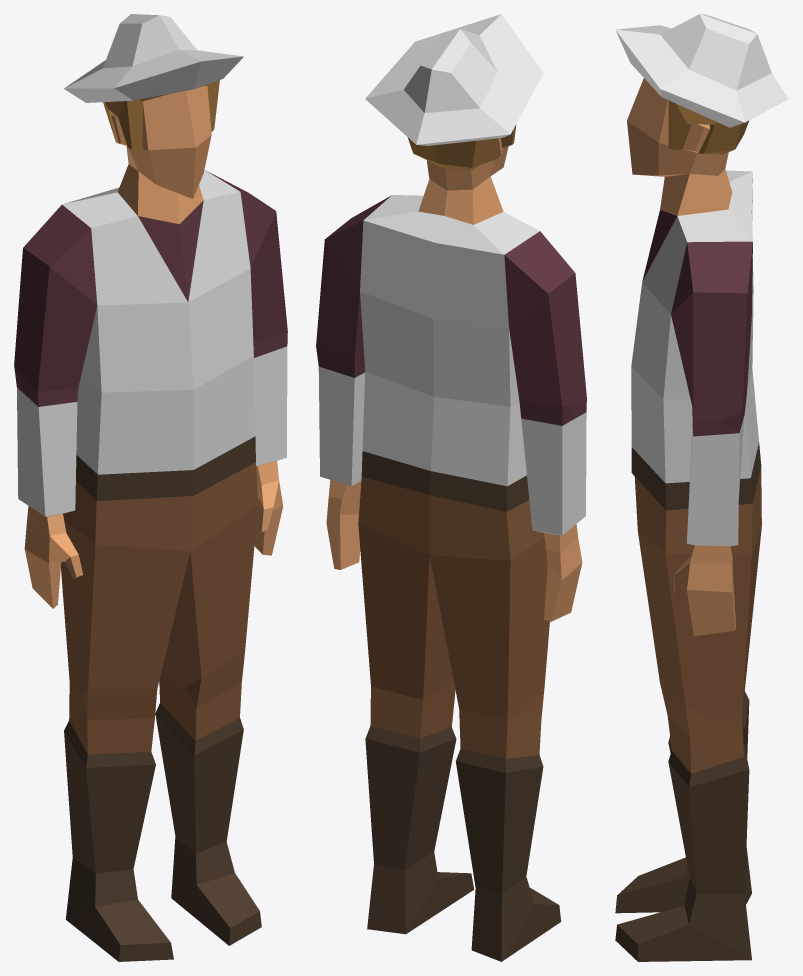
File: man-lad-rival.fbx
3 views of the same model, side by side, from view 1: azimuth 30°, elevation 25°; view 2: azimuth 150°, elevation 25°; view 3: azimuth 270°, elevation 25° (orthographic).
Visible parts, largest first — view 1: man-lad-rival; view 2: man-lad-rival; view 3: man-lad-rival.
Part boxes in pixels (x1=…): man-lad-rival: x1=14, y1=14, x2=287, y2=961; man-lad-rival: x1=316, y1=14, x2=586, y2=961; man-lad-rival: x1=615, y1=14, x2=788, y2=961.
Size of the model in its own units: 0.5438 by 1.88 by 0.3245.
